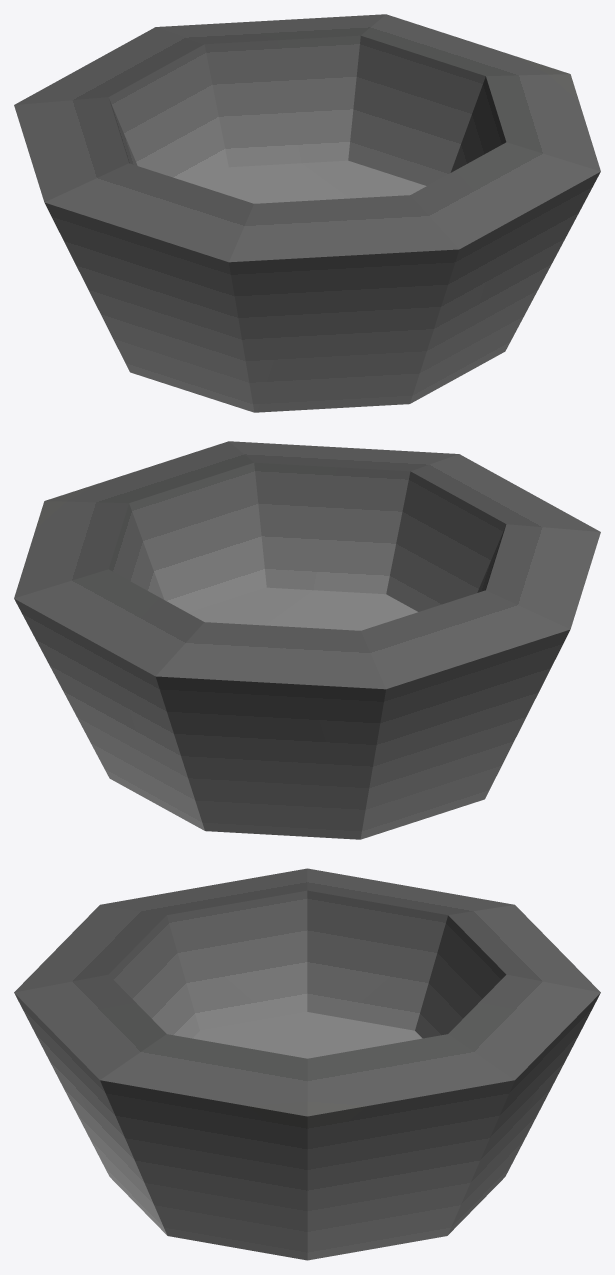
Rendered from 3D_TorchTop.fbx.
3 renders of one model, top to bottom at view 1: azimuth 30°, elevation 25°; view 2: azimuth 150°, elevation 25°; view 3: azimuth 270°, elevation 25°, orthographic. The views are drawn at different scales.
Visible parts, largest first — view 1: TorchTop; view 2: TorchTop; view 3: TorchTop.
Part boxes in pixels (<box>): TorchTop: <box>14,14,600,412</box>; TorchTop: <box>14,441,600,839</box>; TorchTop: <box>14,868,600,1260</box>.
Bounding box in the file's own units: 20.19 × 7.68 × 20.19.
